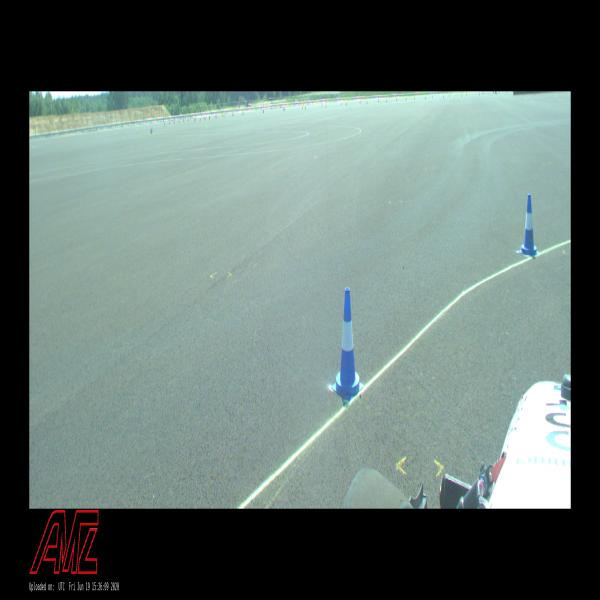blue_cone: (332, 288, 363, 399), (520, 194, 538, 257)
